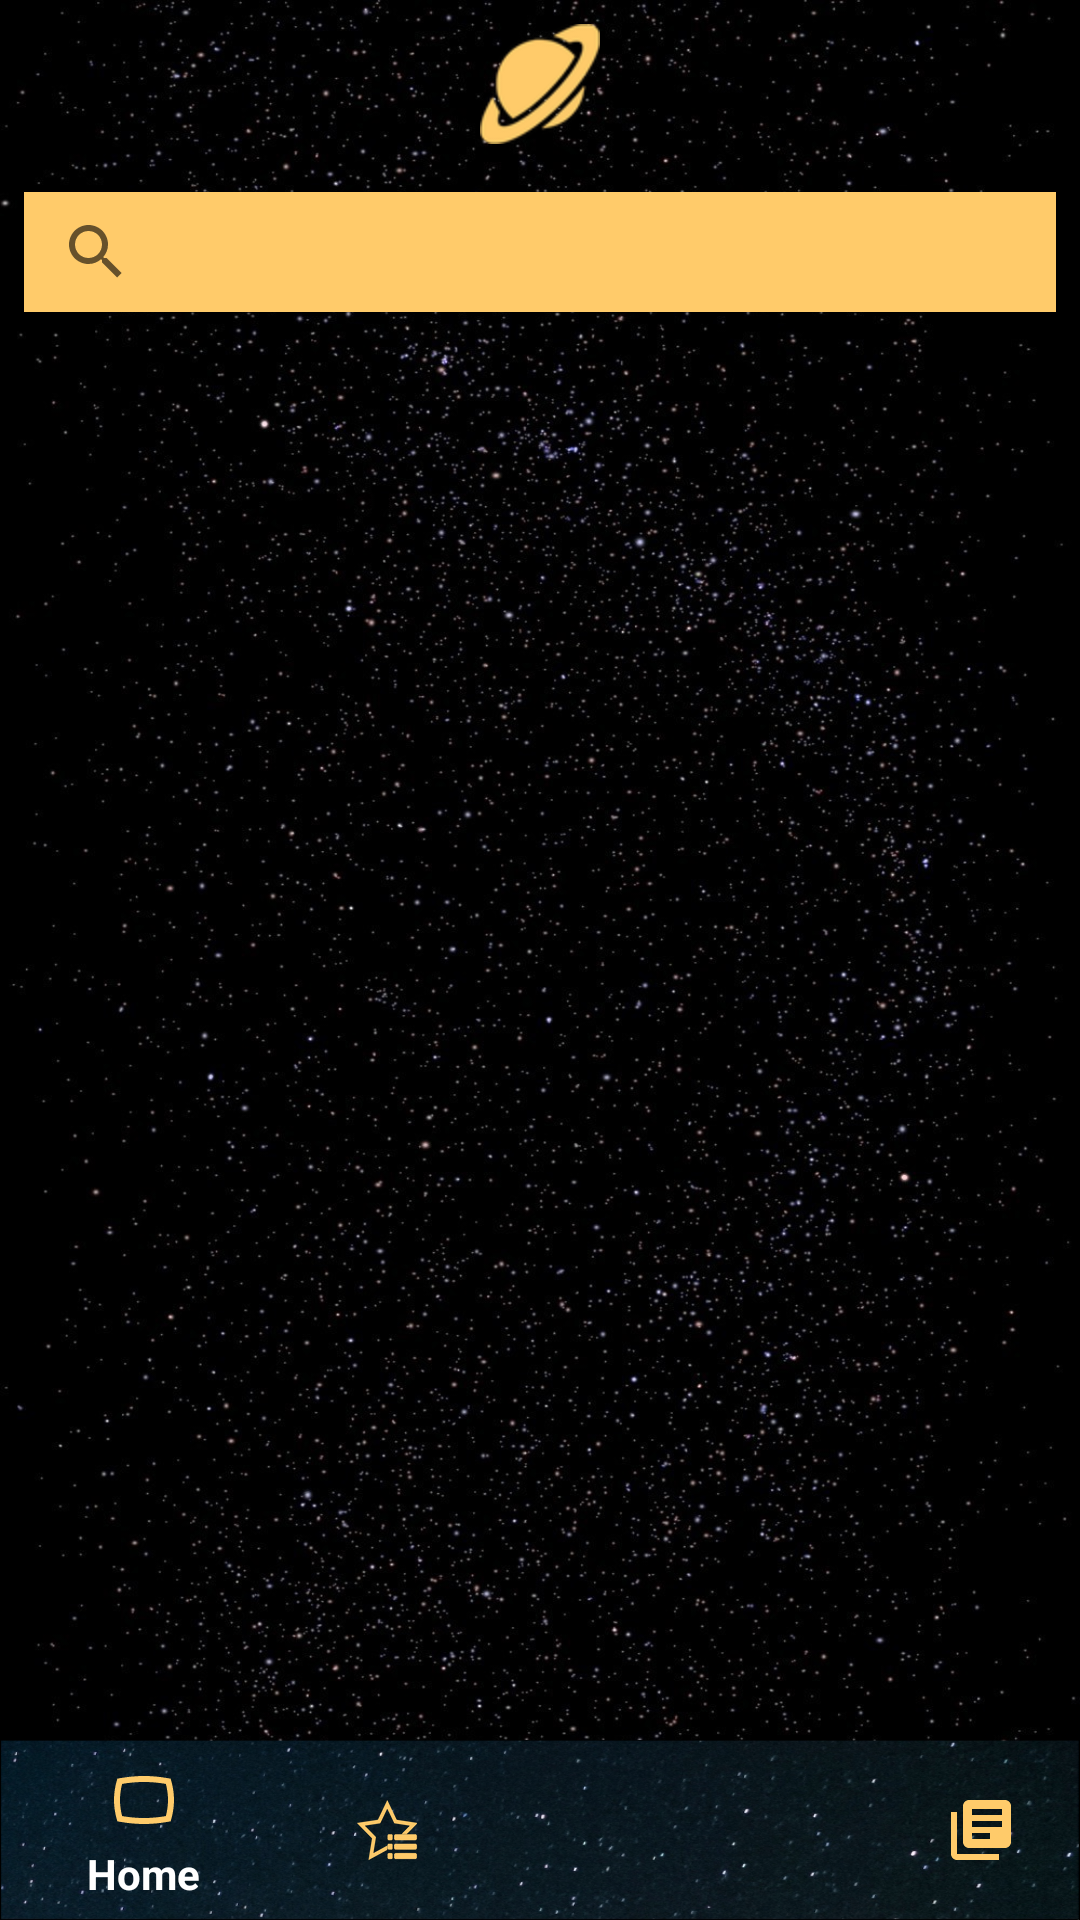

Icon bounding boxes for this 1080 × 1920 phone screenshot, format Rect(x1, y1, x2, y2):
all screen app icon: Rect(480, 24, 600, 144)
